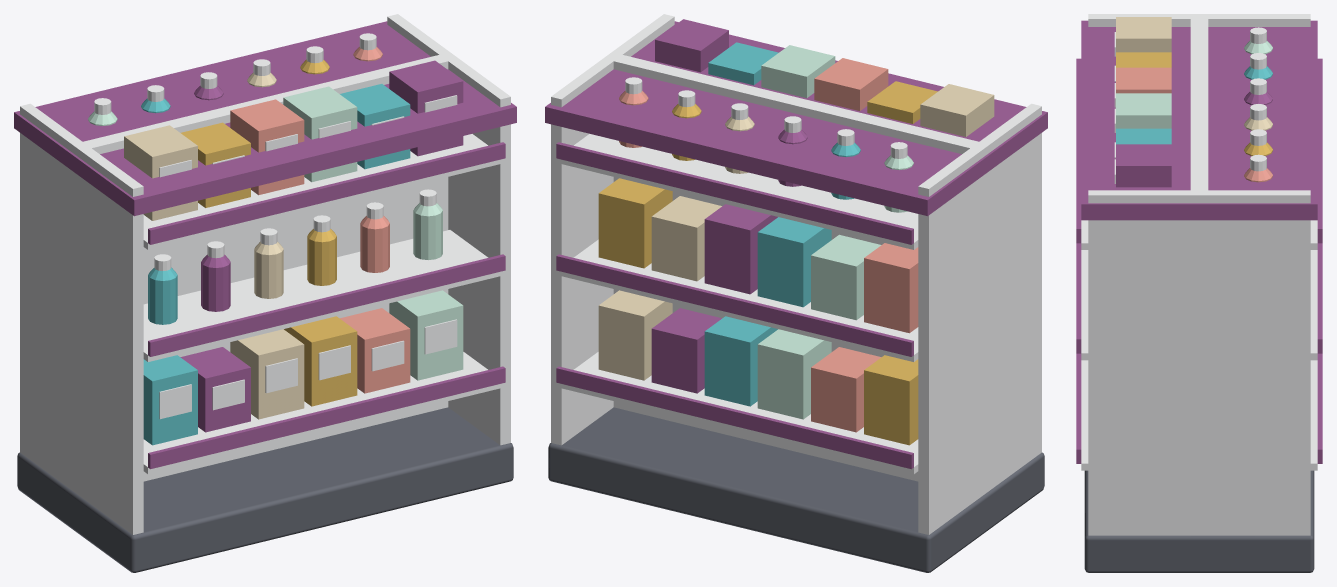
File: pharmacy-and-high-street-chemist-gondola-shelving-run--a66312da__37507.glb
3 renders of one model, left to right at view 1: azimuth 30°, elevation 25°; view 2: azimuth 150°, elevation 25°; view 3: azimuth 270°, elevation 25°, orthographic.
Parts seen in each view (by area): view 1: gondola-shelving-run-low; view 2: gondola-shelving-run-low; view 3: gondola-shelving-run-low.
Boxes of the visible parts, x1=… form: gondola-shelving-run-low: x1=14, y1=14, x2=516, y2=572; gondola-shelving-run-low: x1=545, y1=14, x2=1047, y2=572; gondola-shelving-run-low: x1=1076, y1=14, x2=1322, y2=572.
Size of the model in its own units: 1.25 by 1.24 by 0.708.
